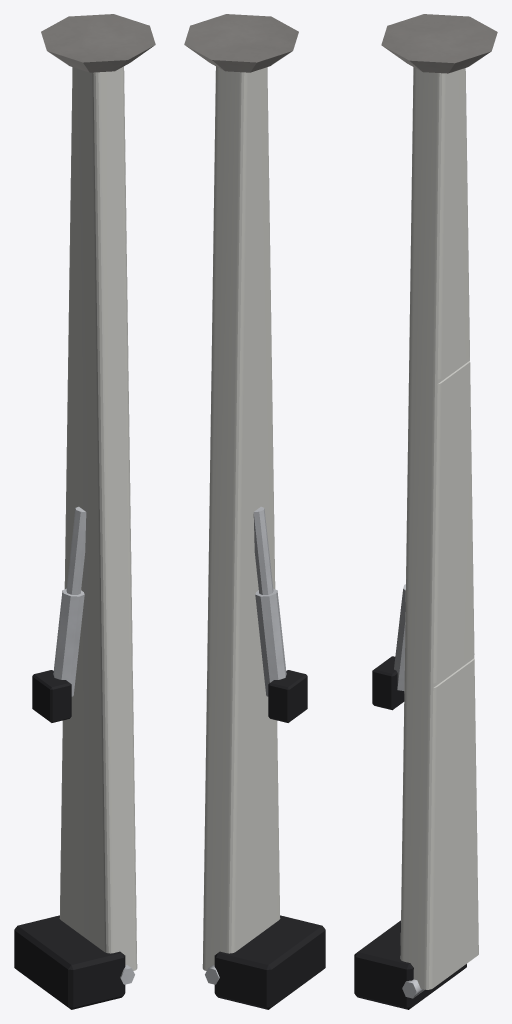
The model's file is ax_gear_05_booster_leg_l.glb.
3 renders of one model, left to right at view 1: azimuth 30°, elevation 25°; view 2: azimuth 150°, elevation 25°; view 3: azimuth 330°, elevation 25°, orthographic.
Visible parts, largest first — view 1: leg_beam, leg_clevis, leg_footpad, leg_pusher_outer, leg_pusher_inner; view 2: leg_beam, leg_clevis, leg_footpad, leg_pusher_outer, leg_pusher_inner; view 3: leg_beam, leg_footpad, leg_clevis, leg_pusher_outer.
Part boxes in pixels (x1,y1,x2,y2): leg_beam: [59, 66, 137, 970]; leg_clevis: [14, 670, 125, 1009]; leg_footpad: [41, 14, 155, 72]; leg_pusher_outer: [53, 588, 84, 696]; leg_pusher_inner: [66, 506, 86, 594]; leg_beam: [202, 66, 280, 970]; leg_clevis: [214, 670, 325, 1009]; leg_footpad: [184, 14, 298, 72]; leg_pusher_outer: [255, 588, 286, 696]; leg_pusher_inner: [253, 506, 273, 594]; leg_beam: [400, 67, 478, 989]; leg_footpad: [381, 14, 497, 73]; leg_clevis: [354, 656, 466, 1009]; leg_pusher_outer: [394, 584, 405, 690].
Bounding box in the file's own units: 0.76 × 6.27 × 0.72.
4 materials, 2 textured.
